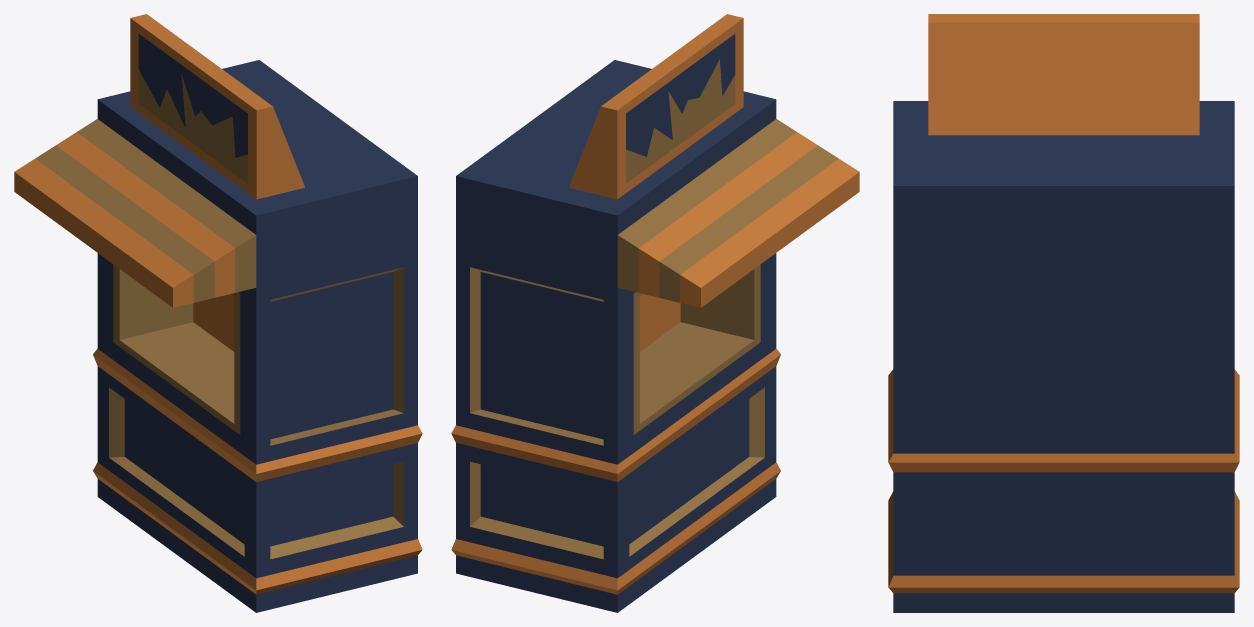
The model's file is NewstandModel01.fbx.
The picture shows the model from 3 angles, left to right: view 1: azimuth 30°, elevation 25°; view 2: azimuth 150°, elevation 25°; view 3: azimuth 270°, elevation 25°; orthographic projection. The views are drawn at different scales.
Parts seen in each view (by area): view 1: Newstand01; view 2: Newstand01; view 3: Newstand01.
Boxes of the visible parts, x1,y1,x2,y2 form: Newstand01: [14, 14, 422, 612]; Newstand01: [451, 14, 859, 612]; Newstand01: [888, 14, 1239, 612].
Bounding box in the file's own units: 207 × 389 × 237.
